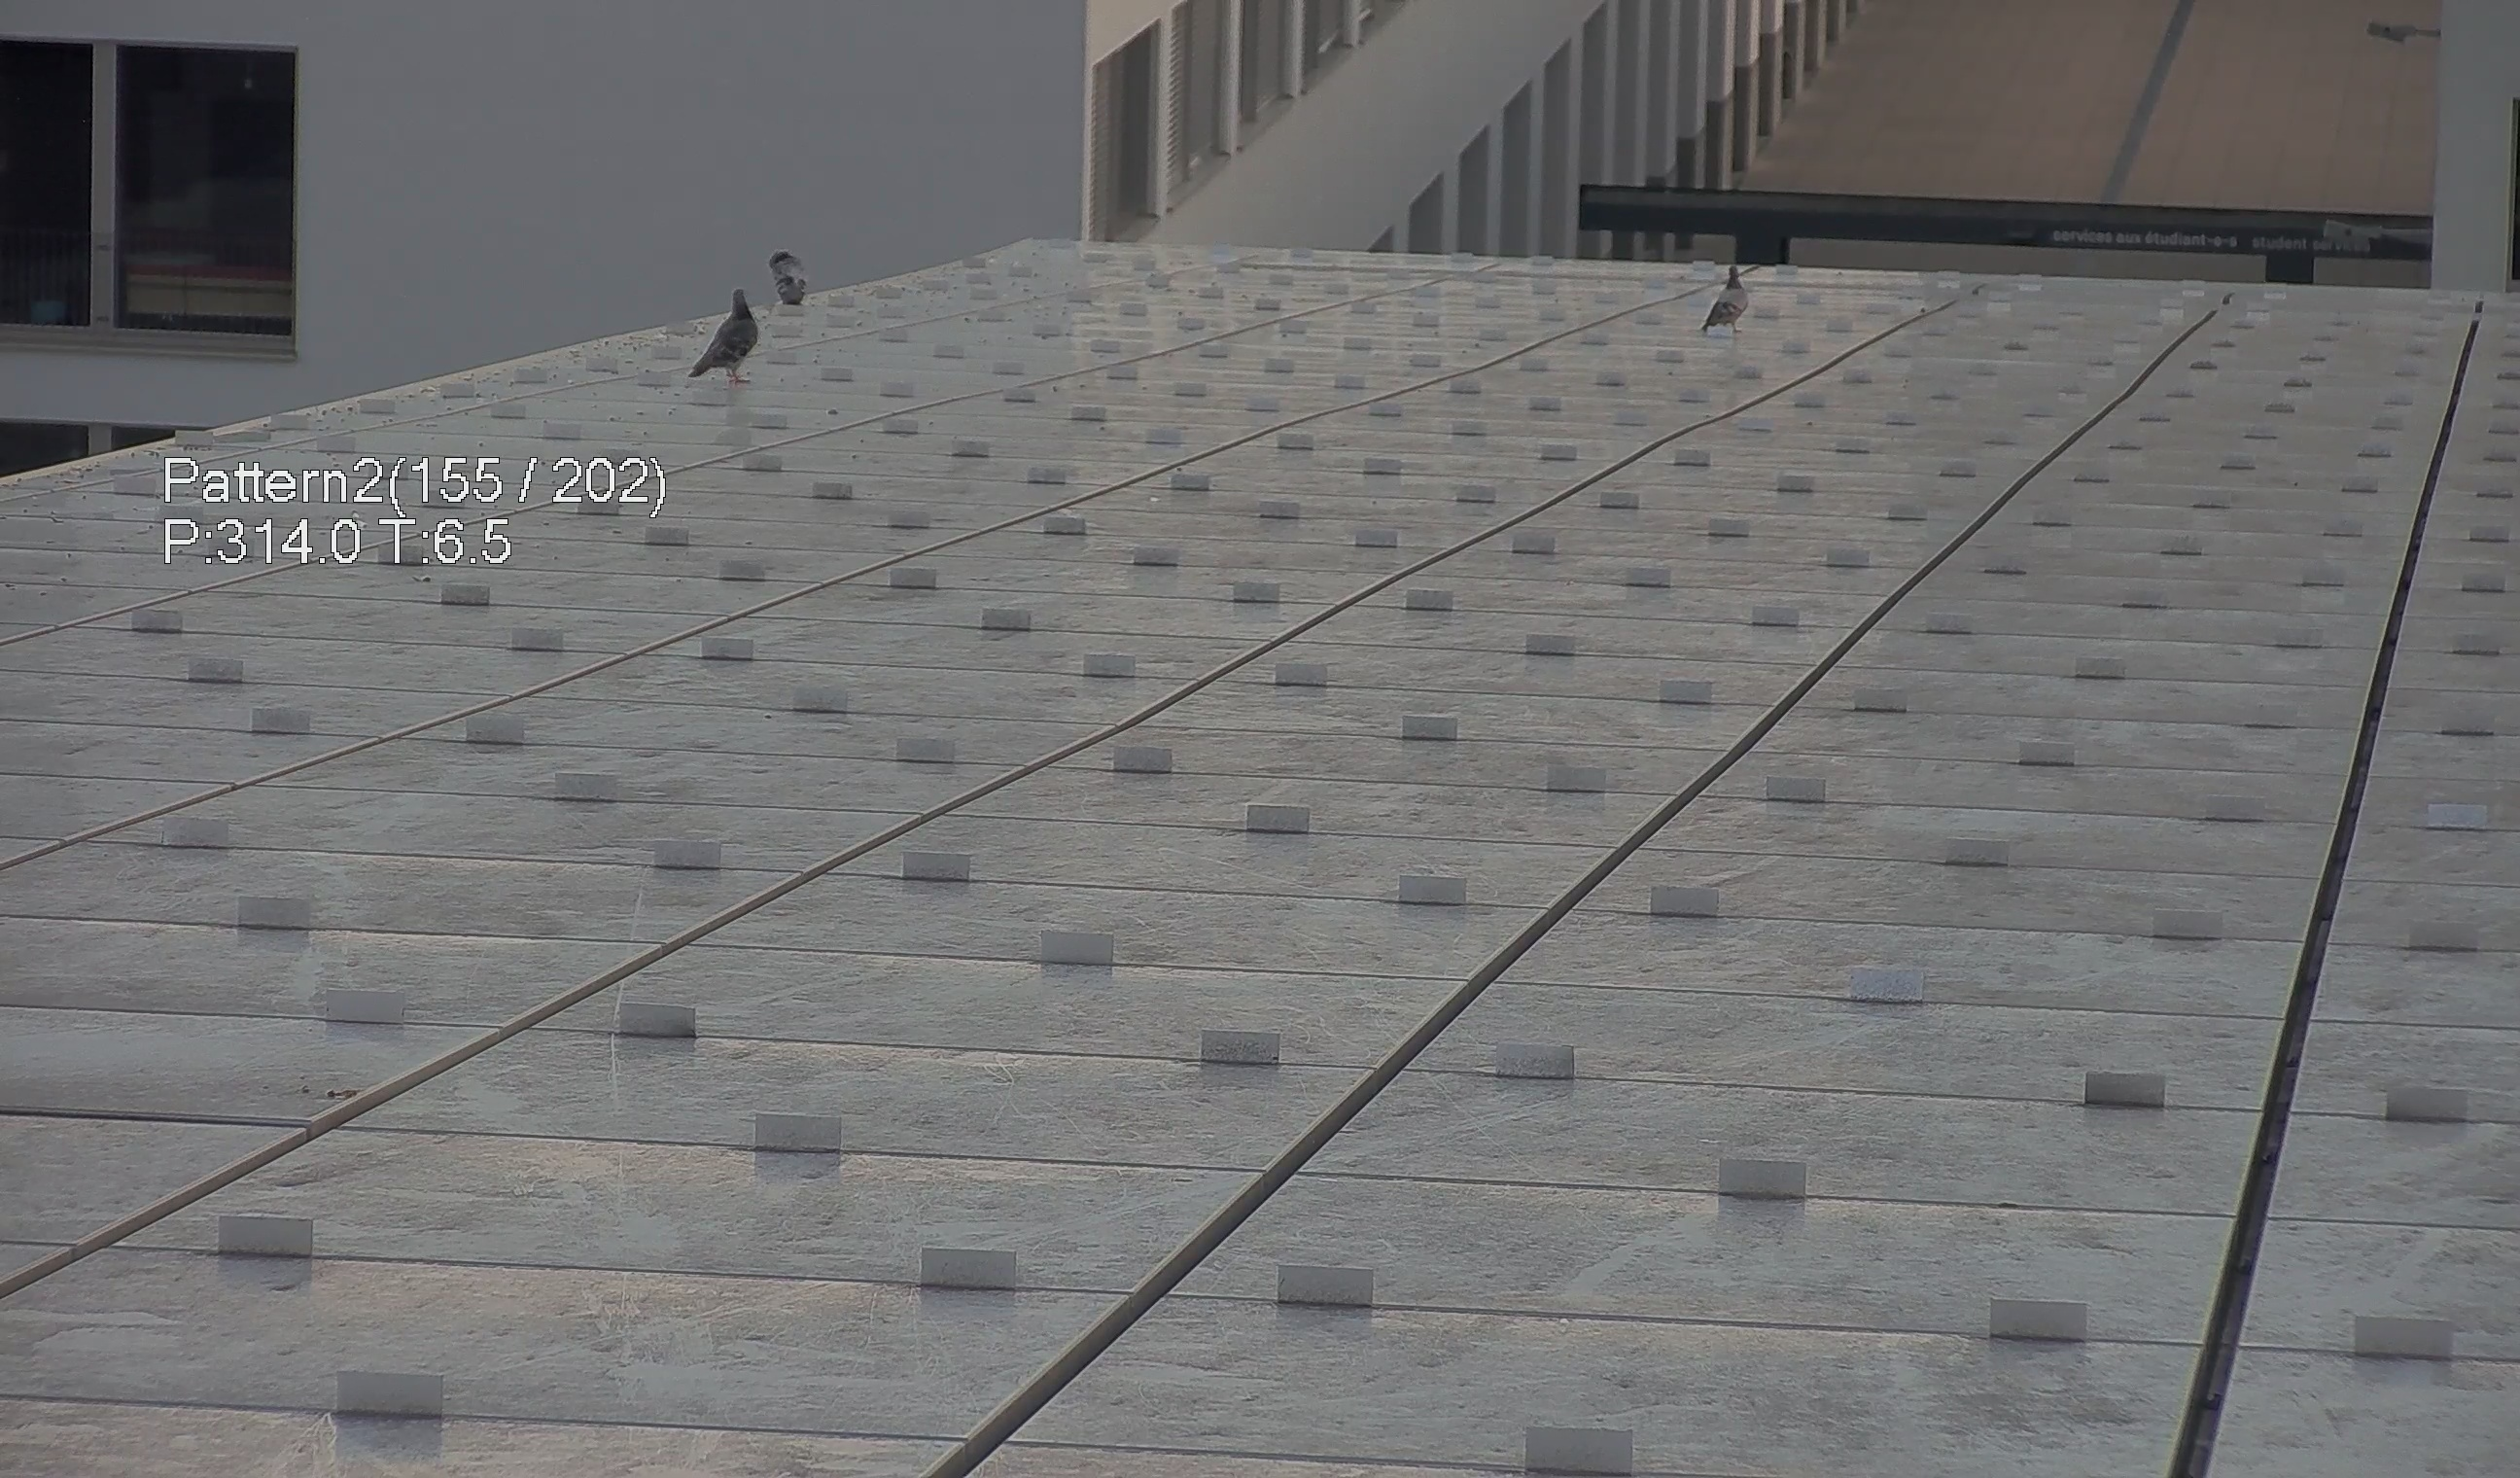Pigeon: (674, 269, 758, 394), (1701, 260, 1764, 334), (768, 236, 823, 315)
